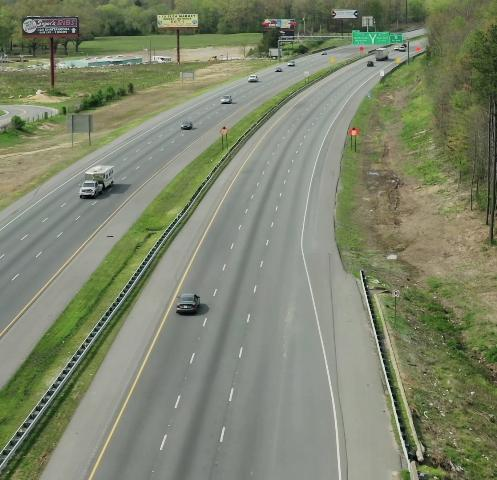car: (81, 164, 116, 198), (177, 292, 203, 316), (181, 119, 194, 131), (247, 73, 261, 83), (221, 95, 234, 104), (365, 60, 376, 69), (287, 59, 297, 68), (274, 68, 284, 73), (321, 50, 329, 56), (395, 46, 399, 50)
pickup-truck: (400, 46, 405, 52)
truck: (374, 47, 392, 61)
